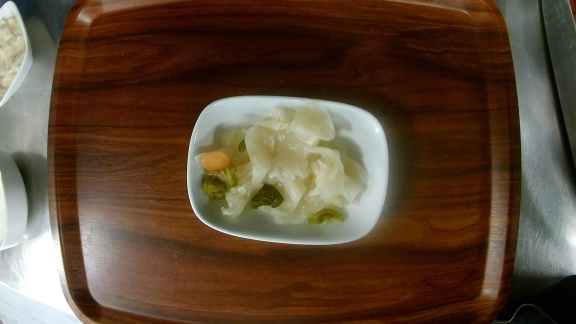tursu: (186, 94, 390, 246)
